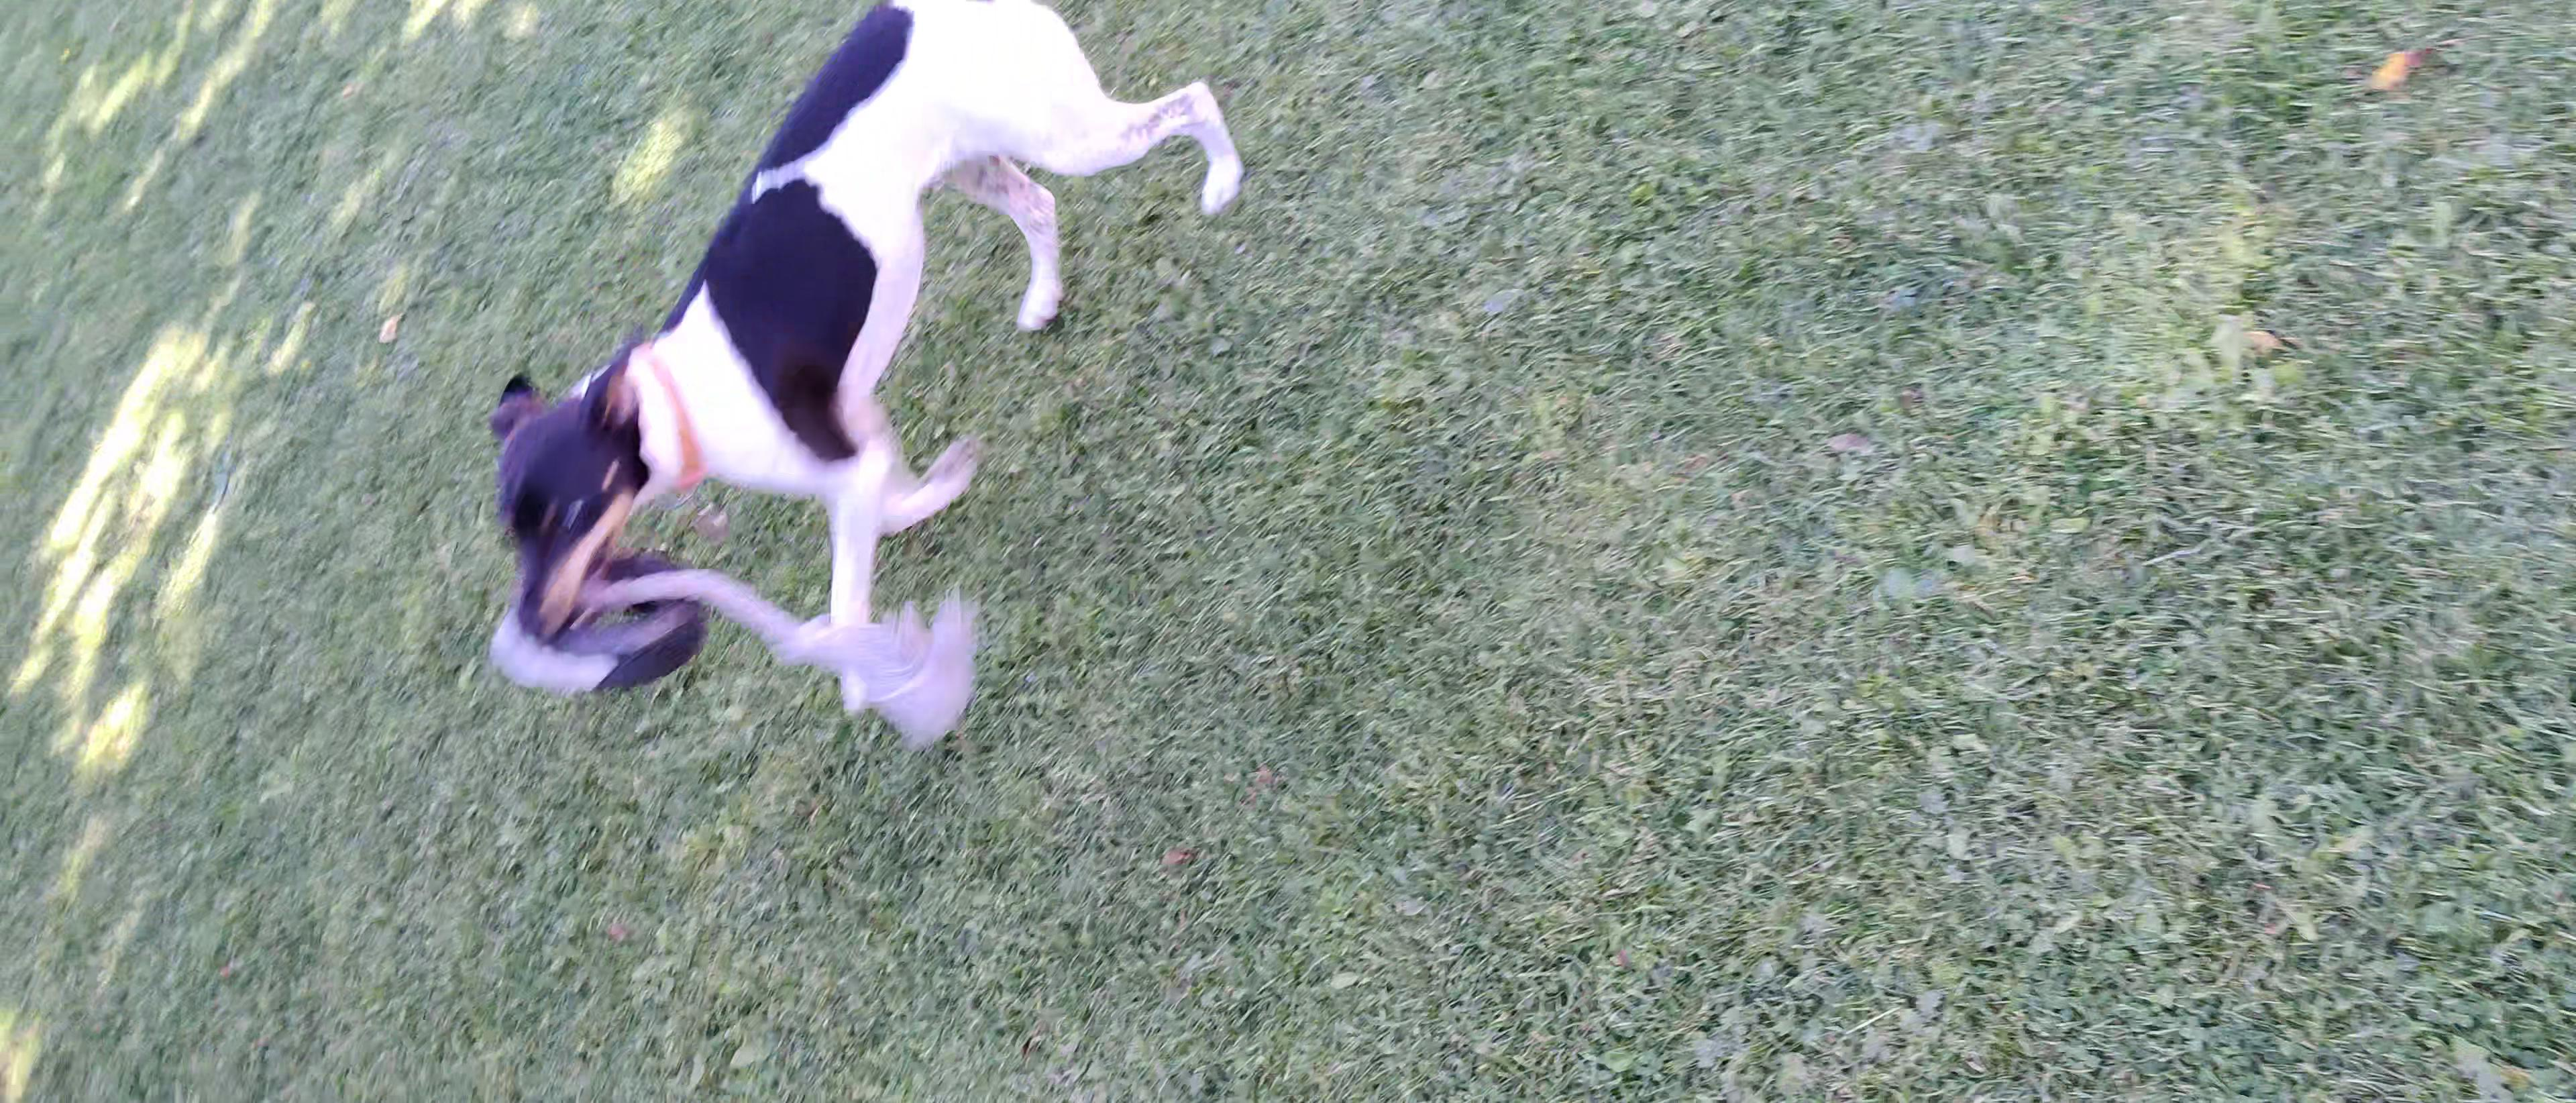Dog: (467, 0, 1244, 727)
